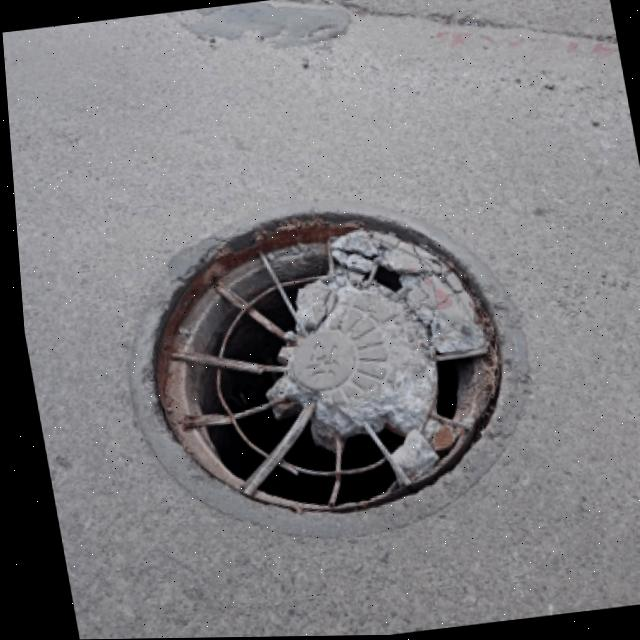manhole: (100, 184, 531, 539)
